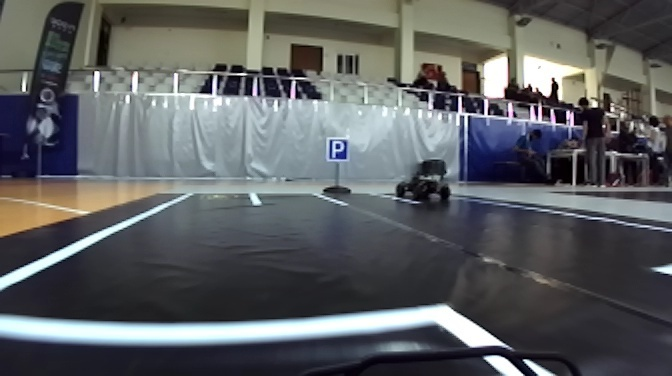park: (325, 136, 352, 163)
